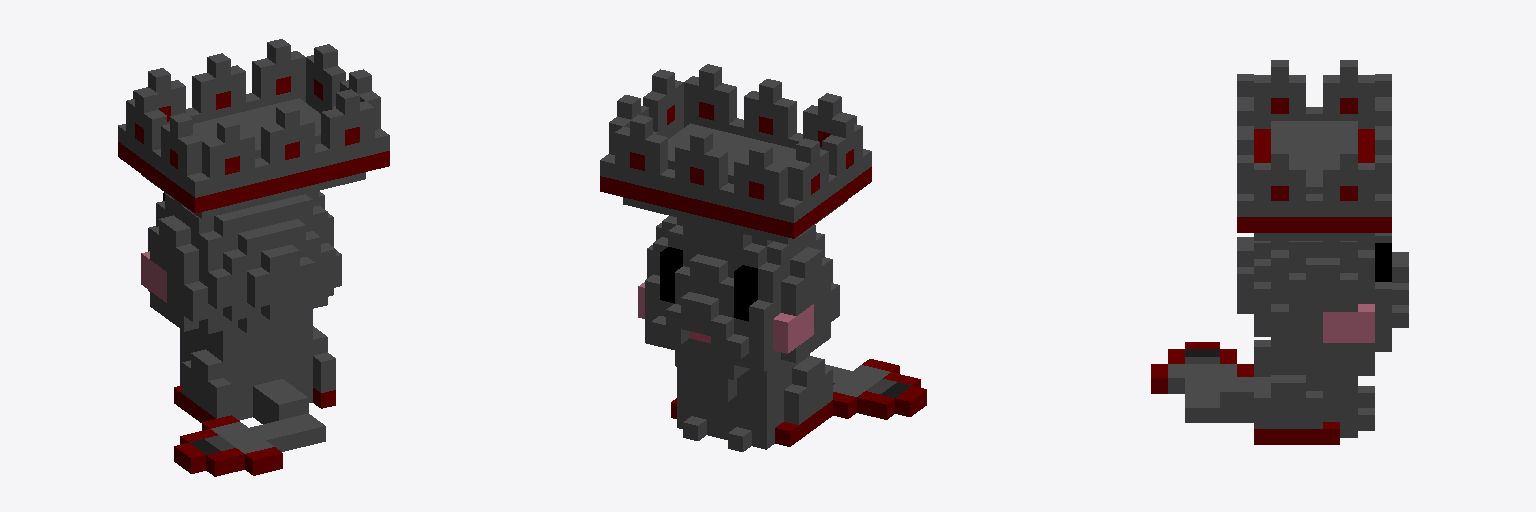
3 renders of one model, left to right at view 1: azimuth 30°, elevation 25°; view 2: azimuth 150°, elevation 25°; view 3: azimuth 270°, elevation 25°, orthographic.
Visible parts, largest first — view 1: object 1; view 2: object 1; view 3: object 1.
Part boxes in pixels (bbox=[...]): object 1: bbox=[118, 39, 389, 476]; object 1: bbox=[600, 64, 926, 451]; object 1: bbox=[1151, 60, 1408, 444].
Bounding box in the file's own units: 1.5 × 2 × 1.5.
Materials: 1 (1 with a texture image).